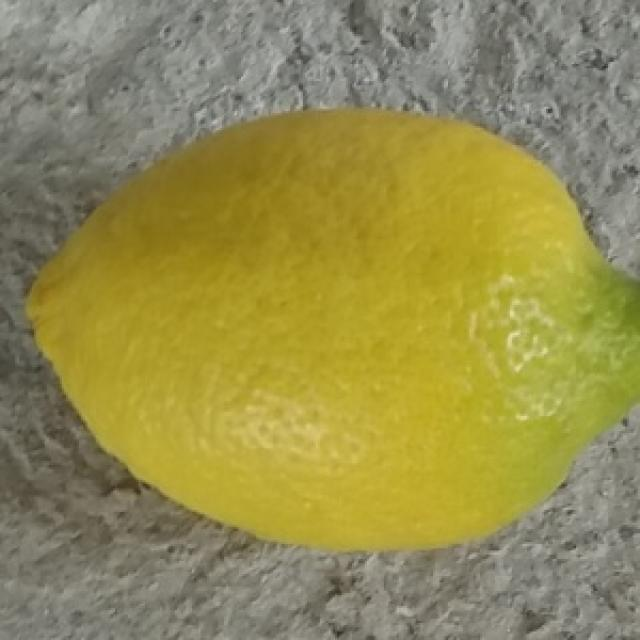Ripe: (21, 98, 640, 565)
